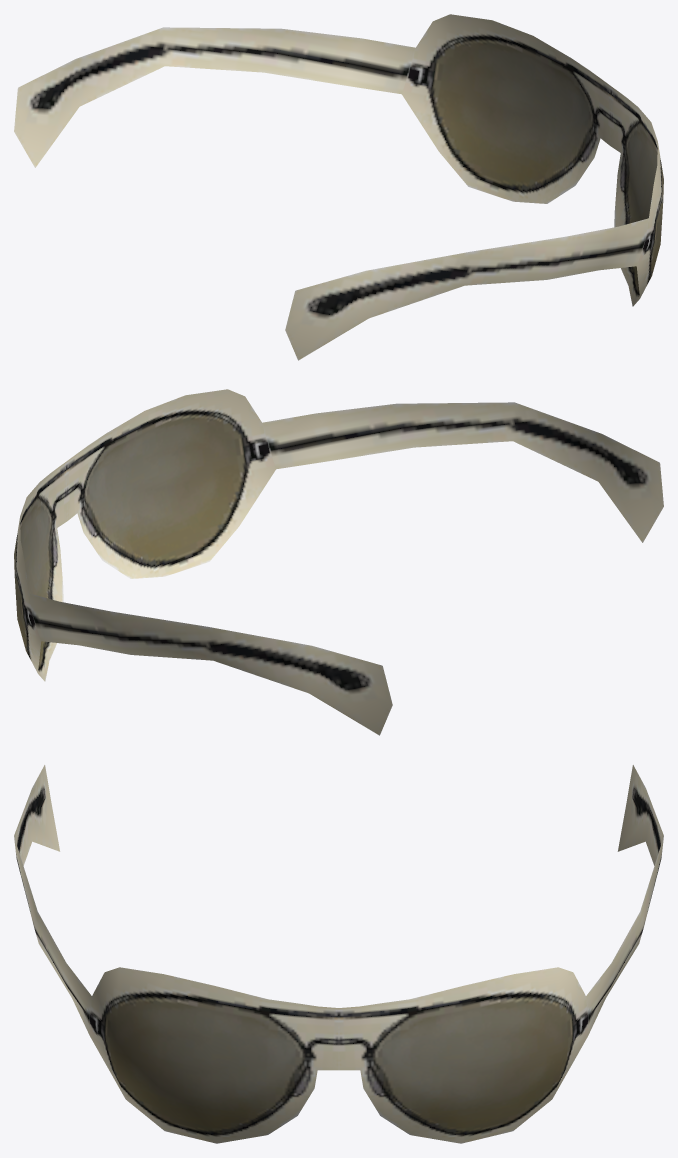
Rendered from acces_0640006.FBX.
3 renders of one model, top to bottom at view 1: azimuth 30°, elevation 25°; view 2: azimuth 150°, elevation 25°; view 3: azimuth 270°, elevation 25°, orthographic. The views are drawn at different scales.
Parts seen in each view (by area): view 1: acces_0640006; view 2: acces_0640006; view 3: acces_0640006.
Part boxes in pixels (x1=…): acces_0640006: x1=14, y1=14, x2=663, y2=360; acces_0640006: x1=14, y1=389, x2=663, y2=735; acces_0640006: x1=14, y1=765, x2=663, y2=1143.
Bounding box in the file's own units: 19.33 × 6.65 × 22.23.
